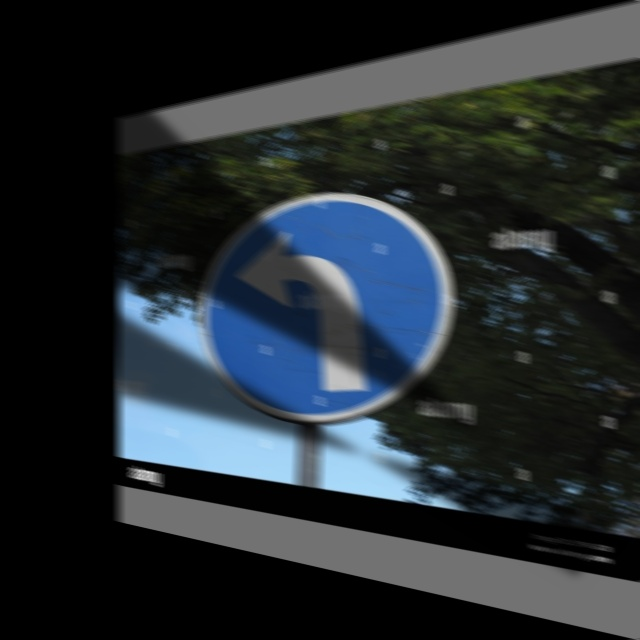Compulsory_Turn_Left_Ahead: (200, 179, 447, 440)
